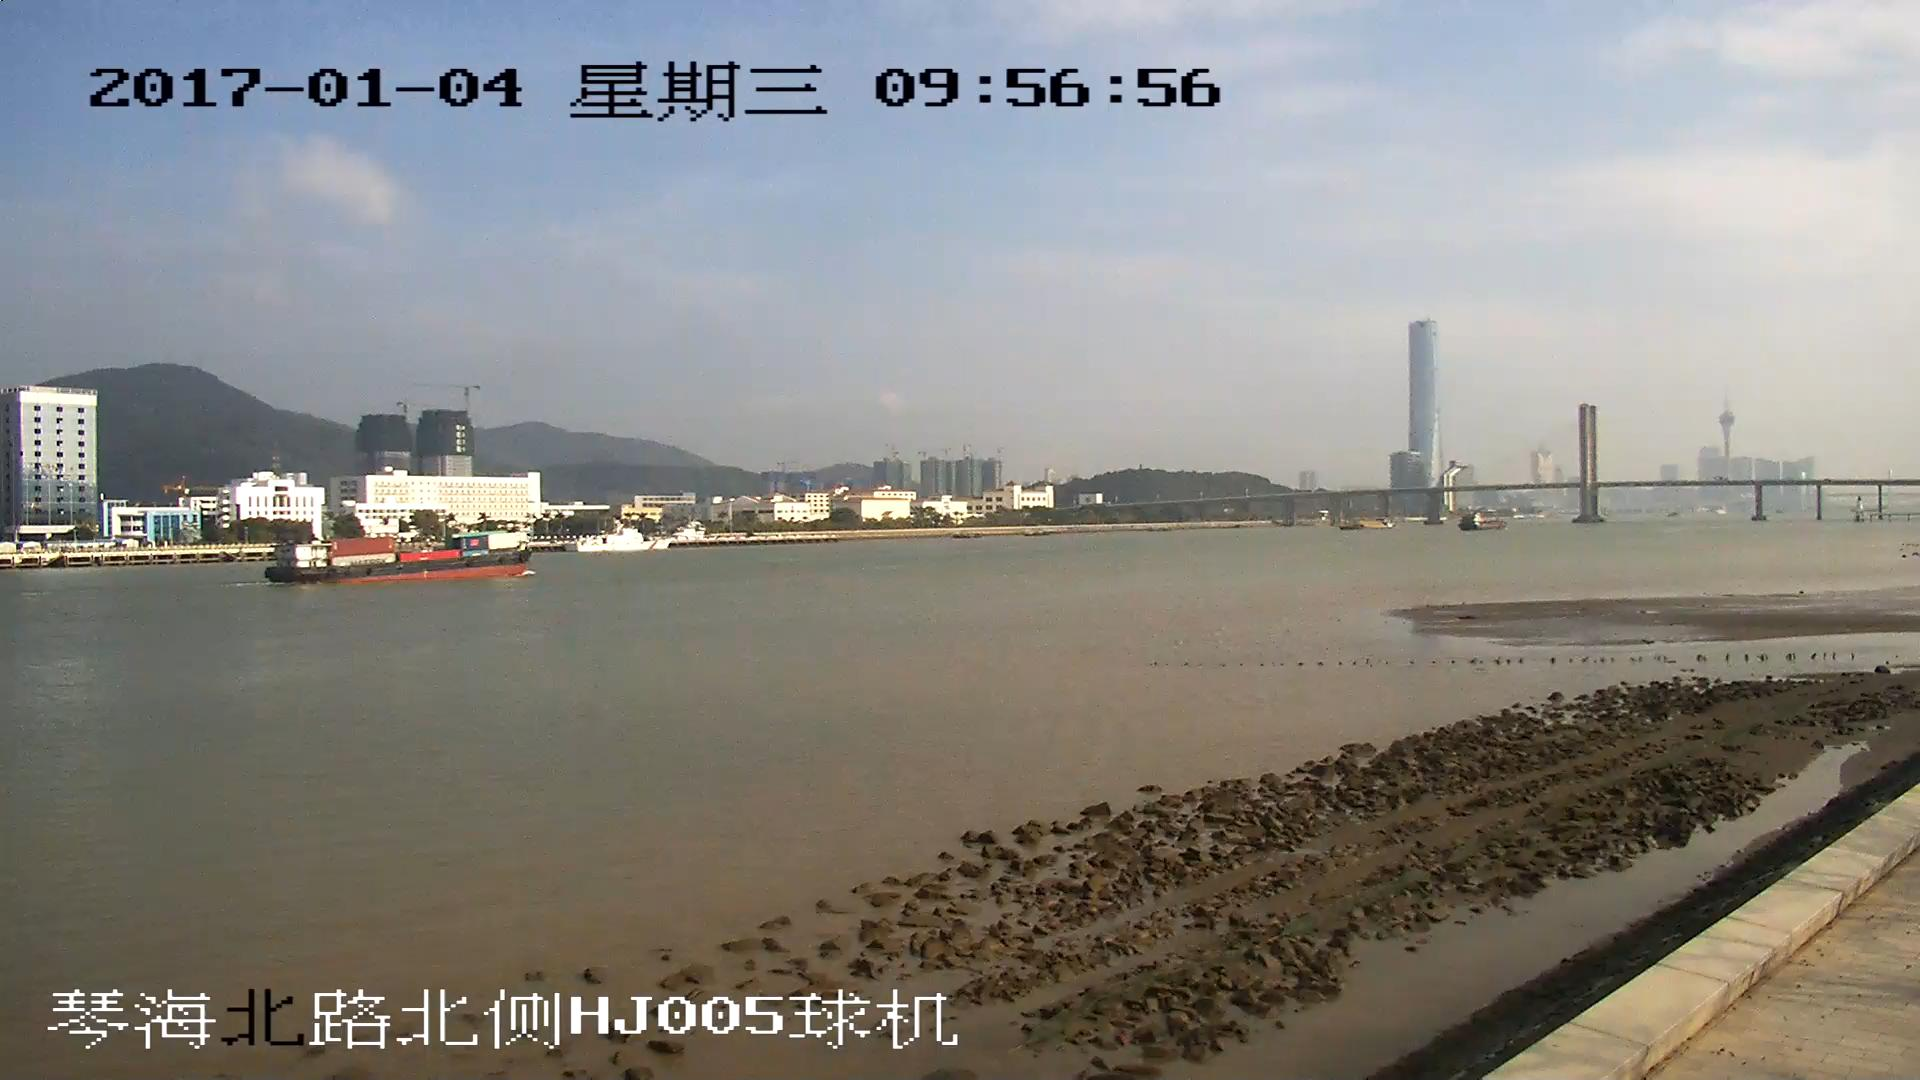container ship: (266, 538, 530, 584)
